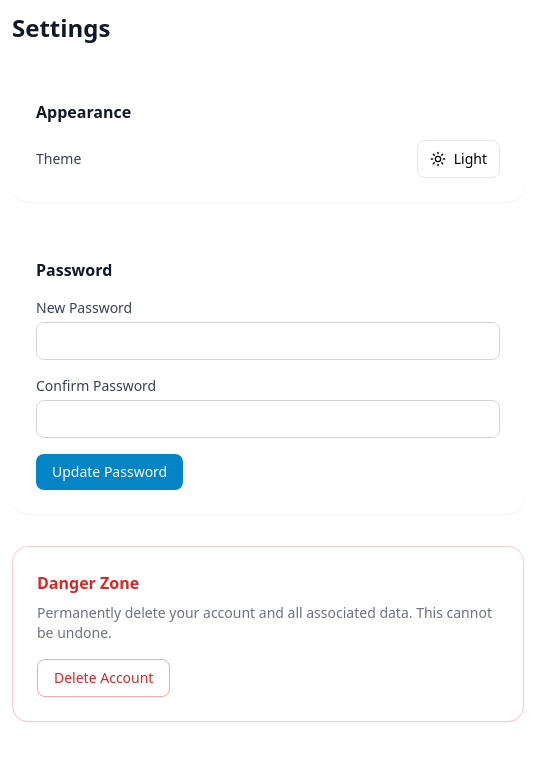
Test: SettingsPage › shows password mismatch error without submitting
Type "password123" into the password field labelled "New Password" at (268,341), box [36, 322, 500, 360]
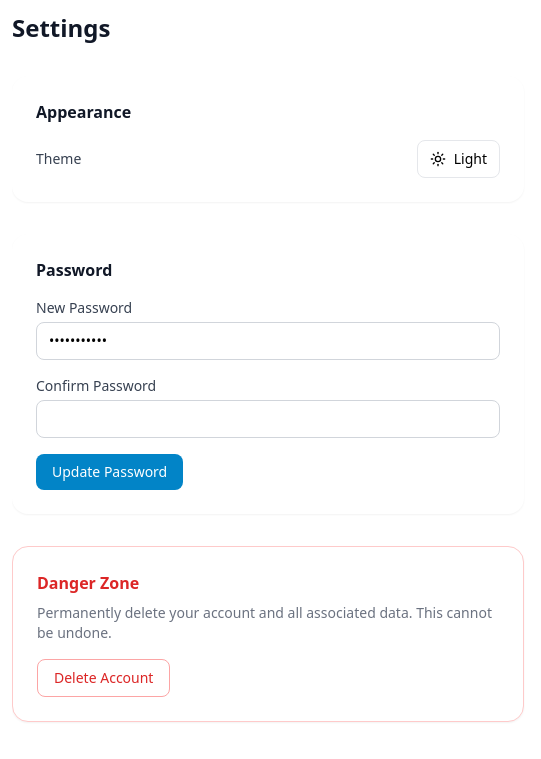
Type "different456" into the password field labelled "Confirm Password" at (268,419), box [36, 400, 500, 438]
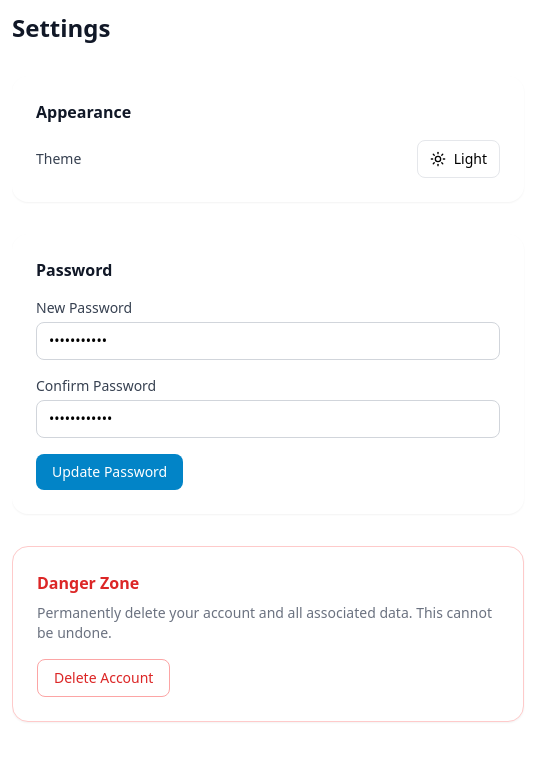
Click the button "Update Password" at (110,472), box [36, 454, 183, 490]
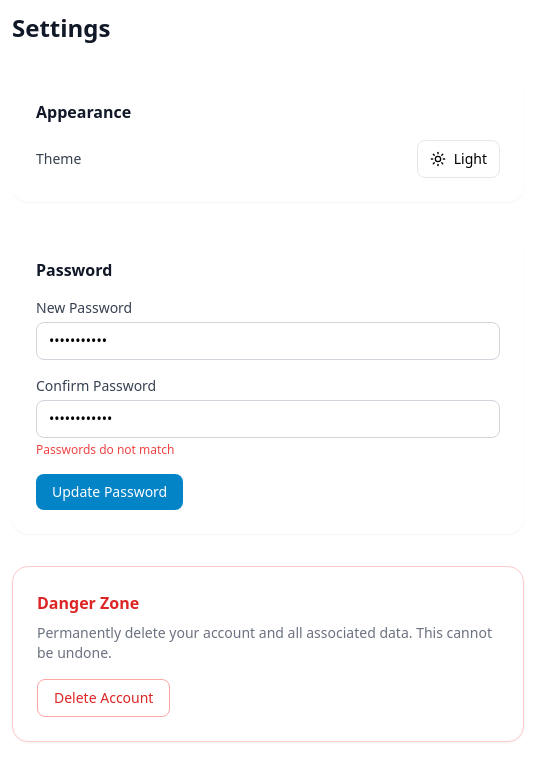
Check: the text "Passwords do not match" is shown, box [36, 441, 174, 458]
